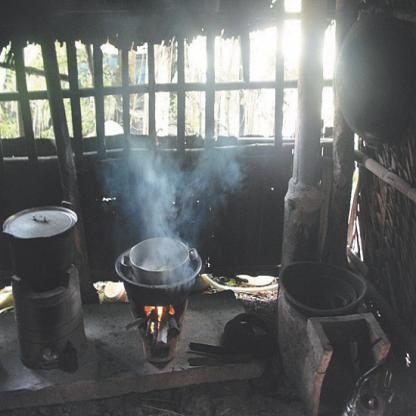fire: (143, 305, 181, 336)
smoke: (94, 5, 261, 288)
